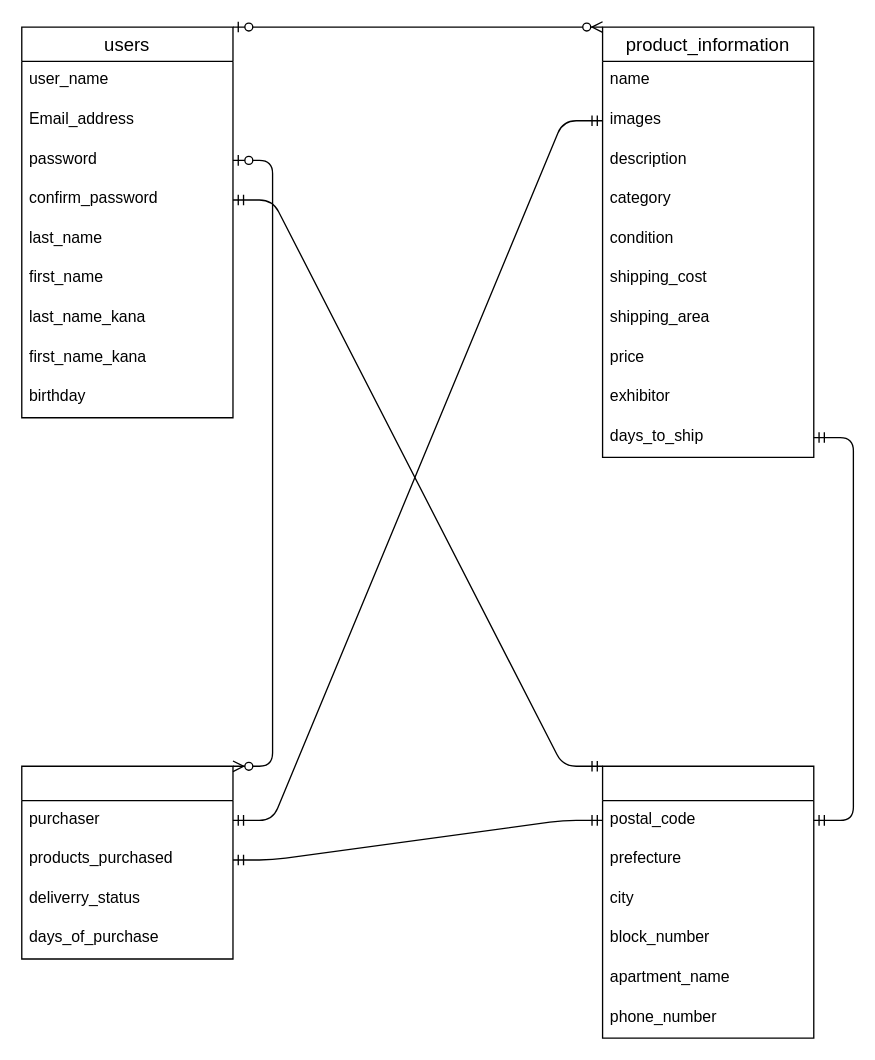
Image size: 875x1060. Some labels were removed from this diagram. The shapes that lost their labels are listed below. From the top down, each one's box as (x1, y1, x2, y2) in pixels, then its label:
(20, 765, 233, 959): purchase_records
(601, 765, 814, 1038): shipping_address
